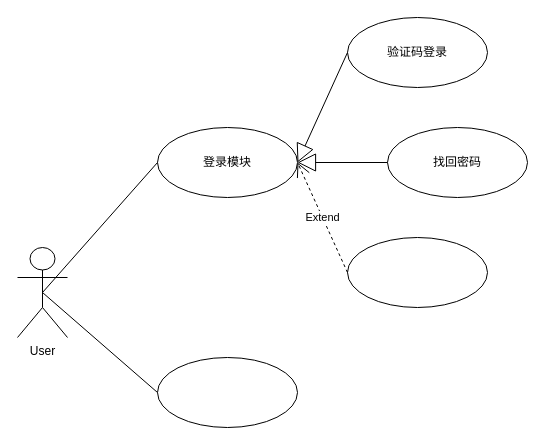
Image size: 545x445. Some labels were removed from this diagram. The centre of each missing label's shape, as x and y in pixels:
注册模块: [227,392]
账号密码登录: [417,272]
